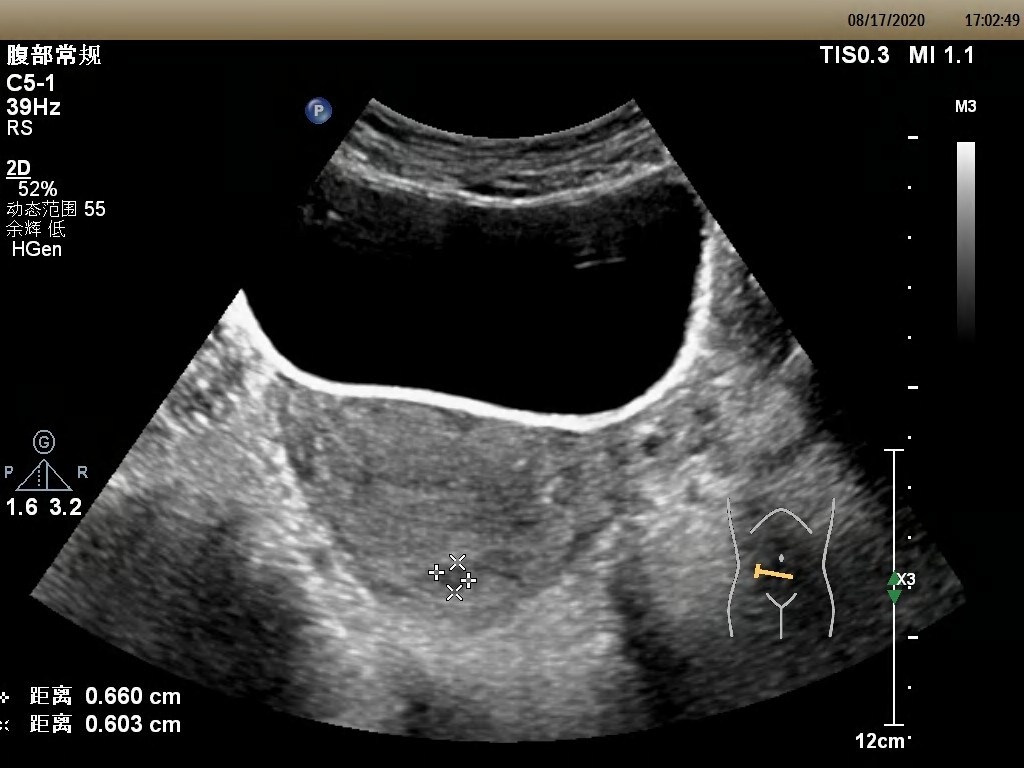肌瘤: (438, 566, 470, 591)
